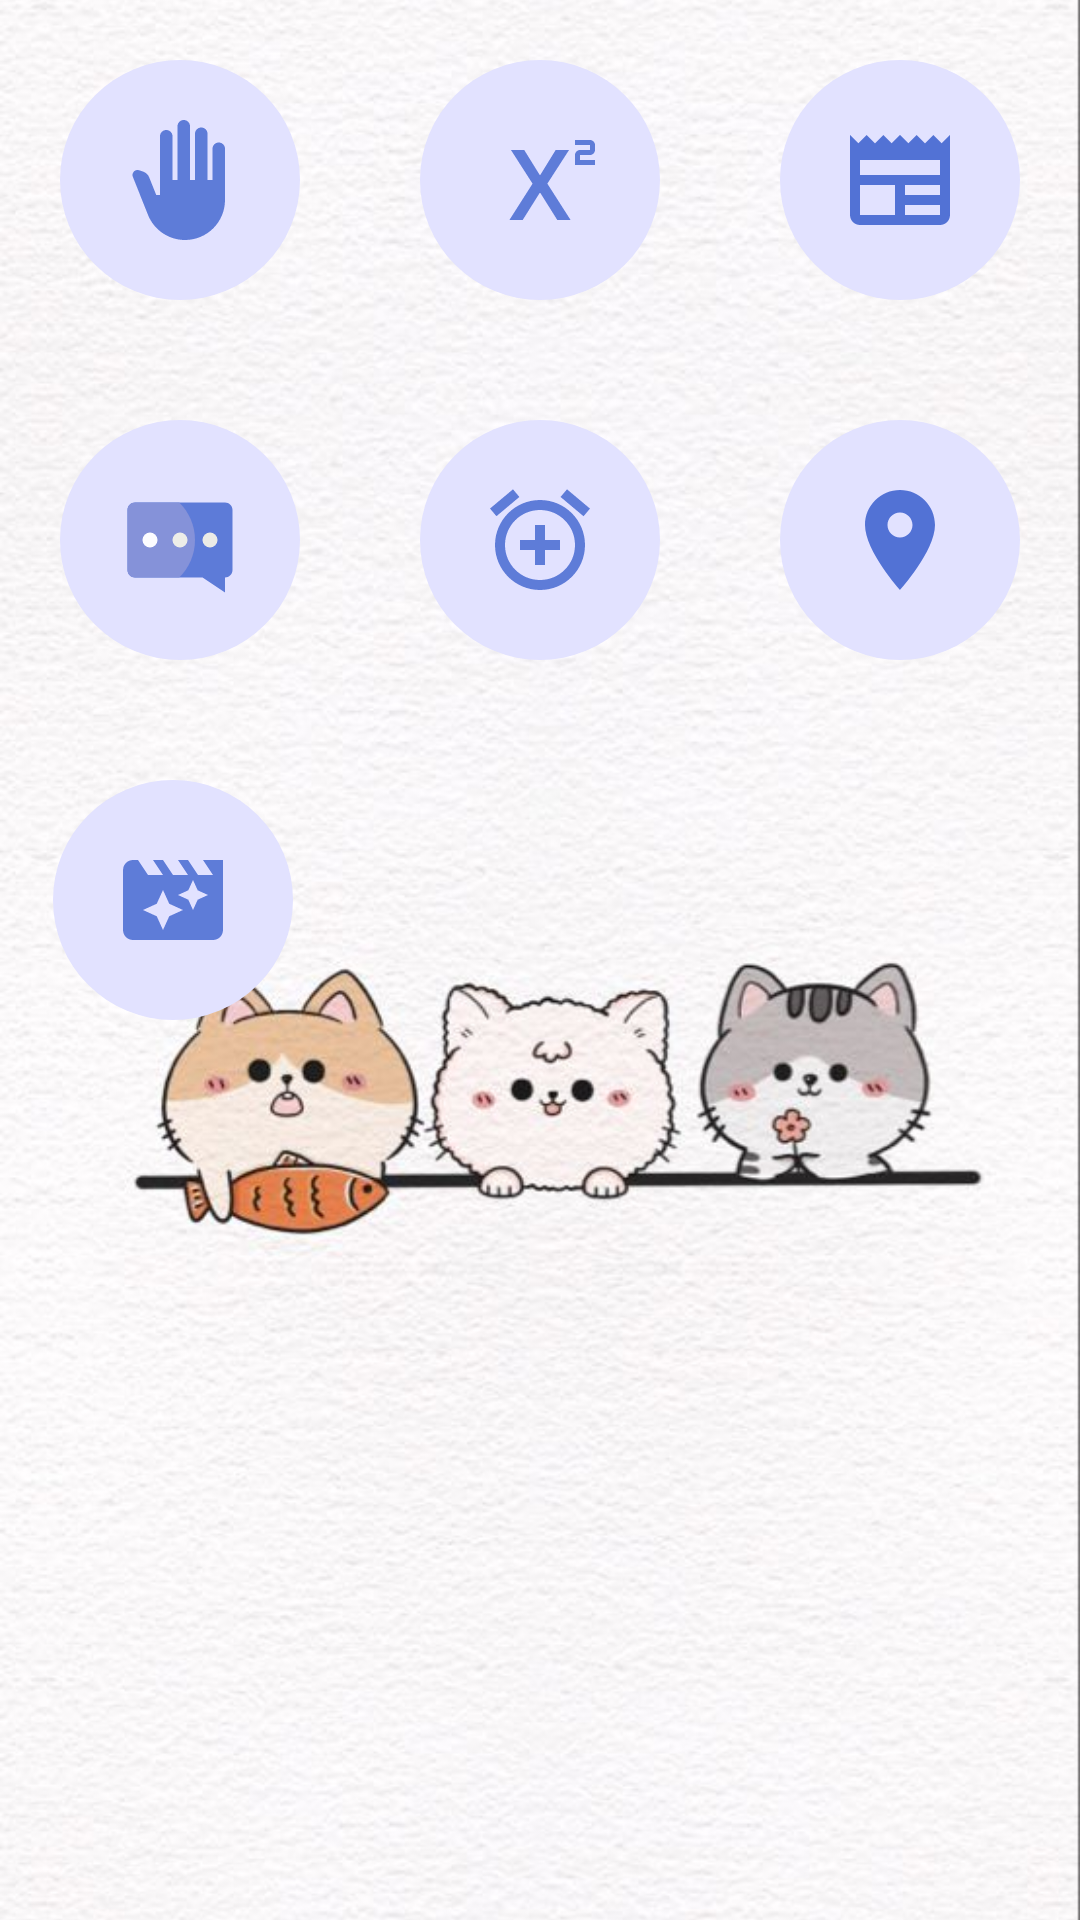

Screen size 1080*1920. Icon name, then its box in pixels as [x1, y1, x2, y2]:
alarm: [420, 420, 660, 660]
count: [420, 60, 660, 300]
hello: [60, 60, 300, 300]
lokasi: [865, 490, 935, 590]
movie: [53, 780, 293, 1020]
pesan: [127, 502, 233, 593]
